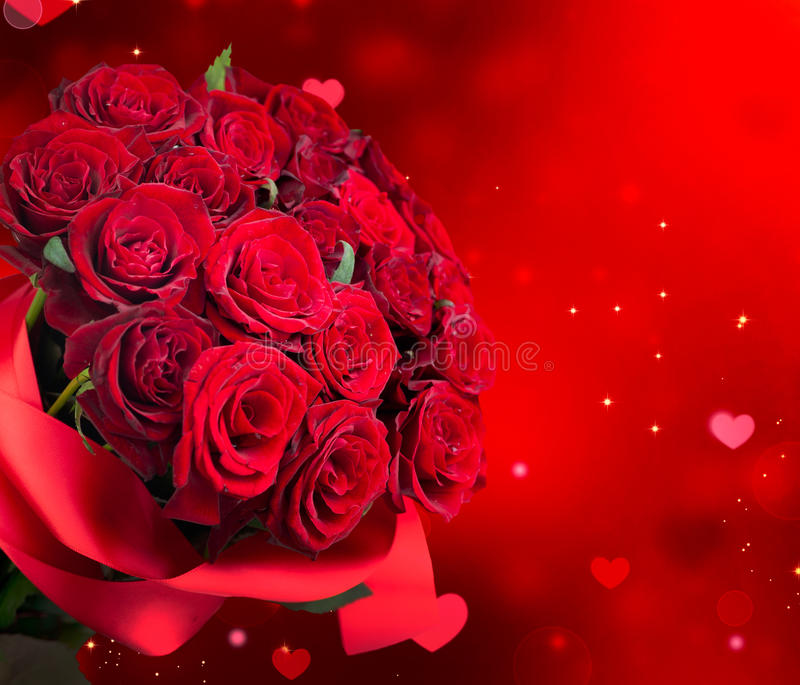RedRose: (181, 354, 289, 500), (69, 304, 195, 409), (420, 293, 531, 412), (59, 50, 181, 155), (289, 283, 387, 402), (227, 211, 315, 339), (413, 381, 506, 502), (373, 214, 457, 334), (87, 195, 202, 274), (310, 426, 398, 524), (343, 173, 423, 276), (205, 106, 295, 193), (270, 73, 337, 160), (28, 121, 97, 205)
